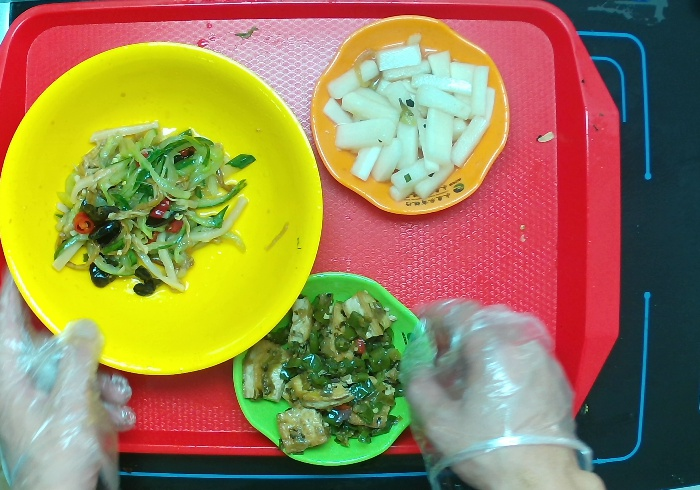YKMZ-Huang_Se_Tang_Wan: (1, 37, 325, 376)
YKMZ-Ju_Se_Ao_Bian_Wan: (311, 12, 511, 221)
YKMZ-Lv_Se_Ao_Bian_Wan: (229, 267, 426, 469)
